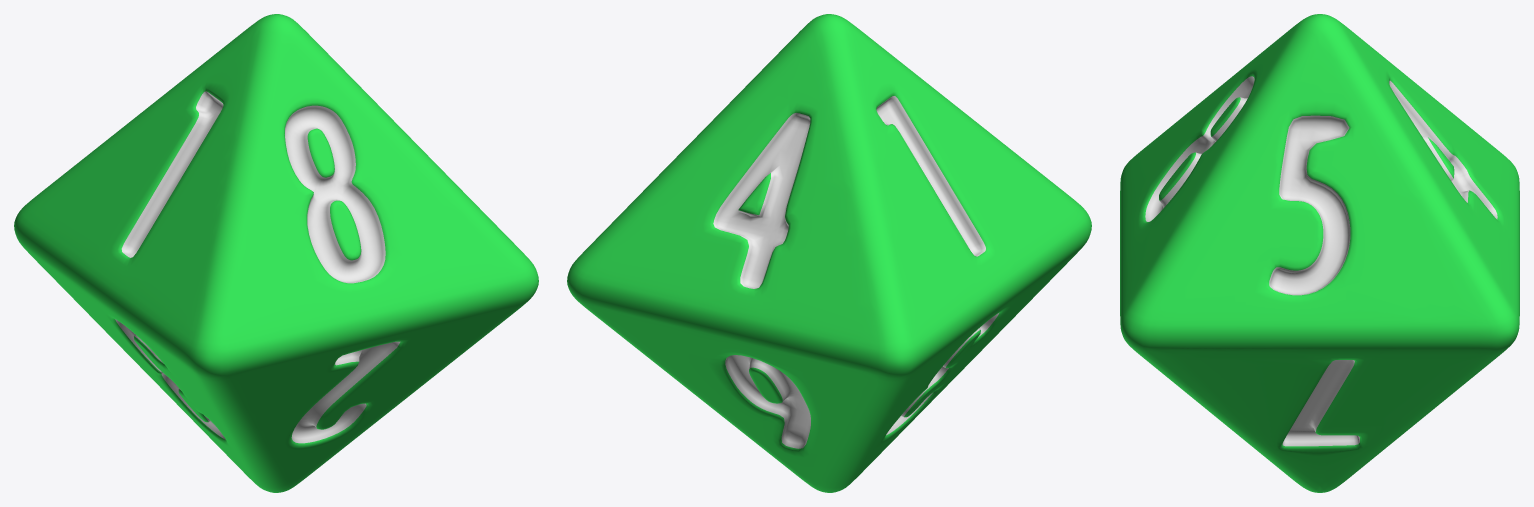
File: Dice_D8.fbx
3 renders of one model, left to right at view 1: azimuth 30°, elevation 25°; view 2: azimuth 150°, elevation 25°; view 3: azimuth 270°, elevation 25°, orthographic.
Visible parts, largest first — view 1: Cube.003; view 2: Cube.003; view 3: Cube.003.
Boxes of the visible parts, x1,y1,x2,y2 form: Cube.003: (14, 14, 538, 492); Cube.003: (567, 14, 1091, 492); Cube.003: (1120, 14, 1519, 492).
Size of the model in its own units: 193 by 254 by 193.
